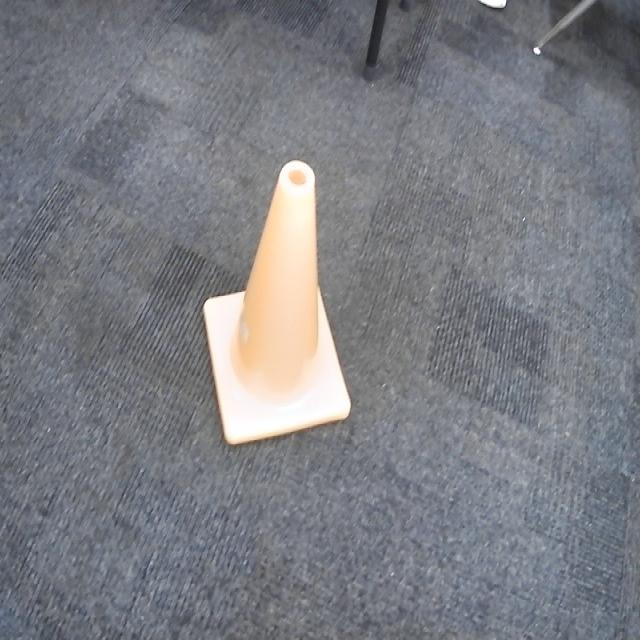cone: (202, 157, 354, 452)
